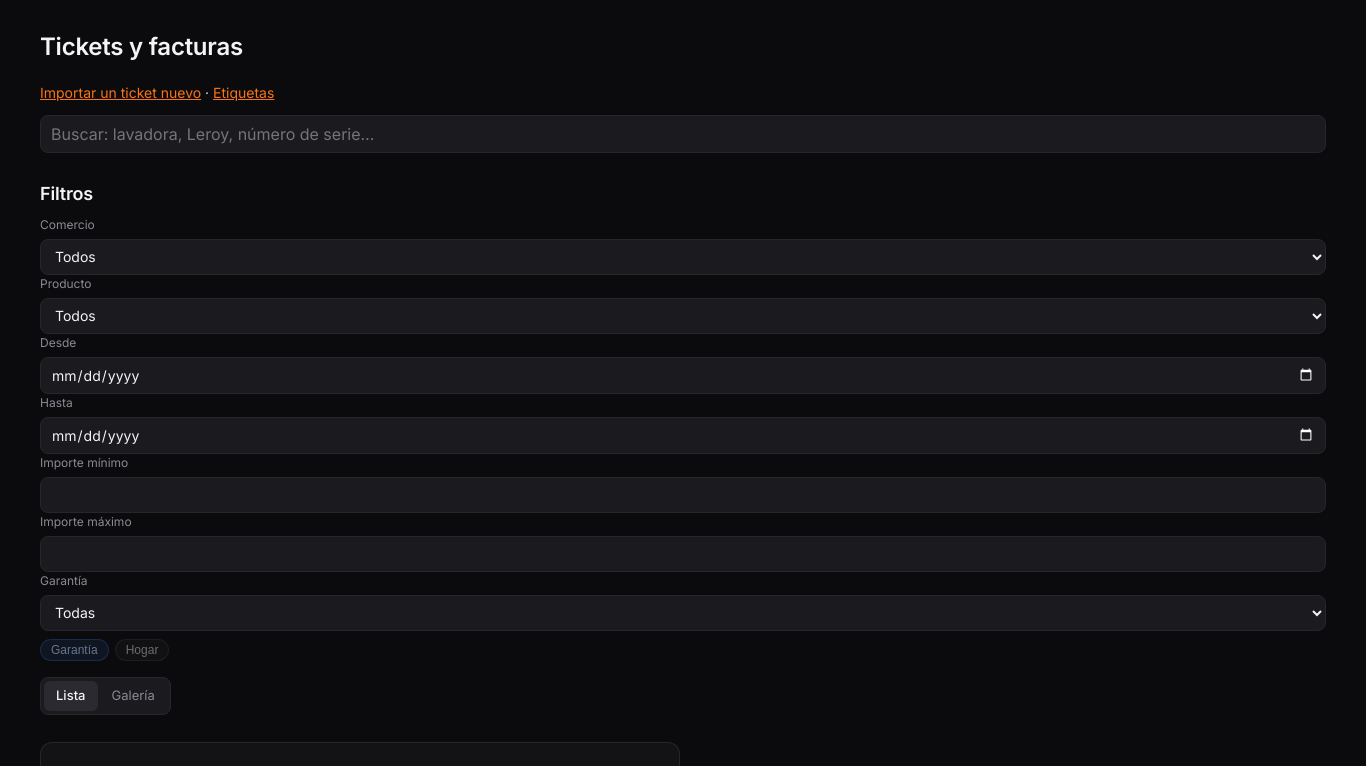
ReceiptsPage › spec 040, H1: filtros › sin resultados con filtros activos, muestra un mensaje distinto del de "sin tickets"
Select "Mercadona" in the dropdown labelled "Comercio": [683, 256] box [40,238,1326,274]
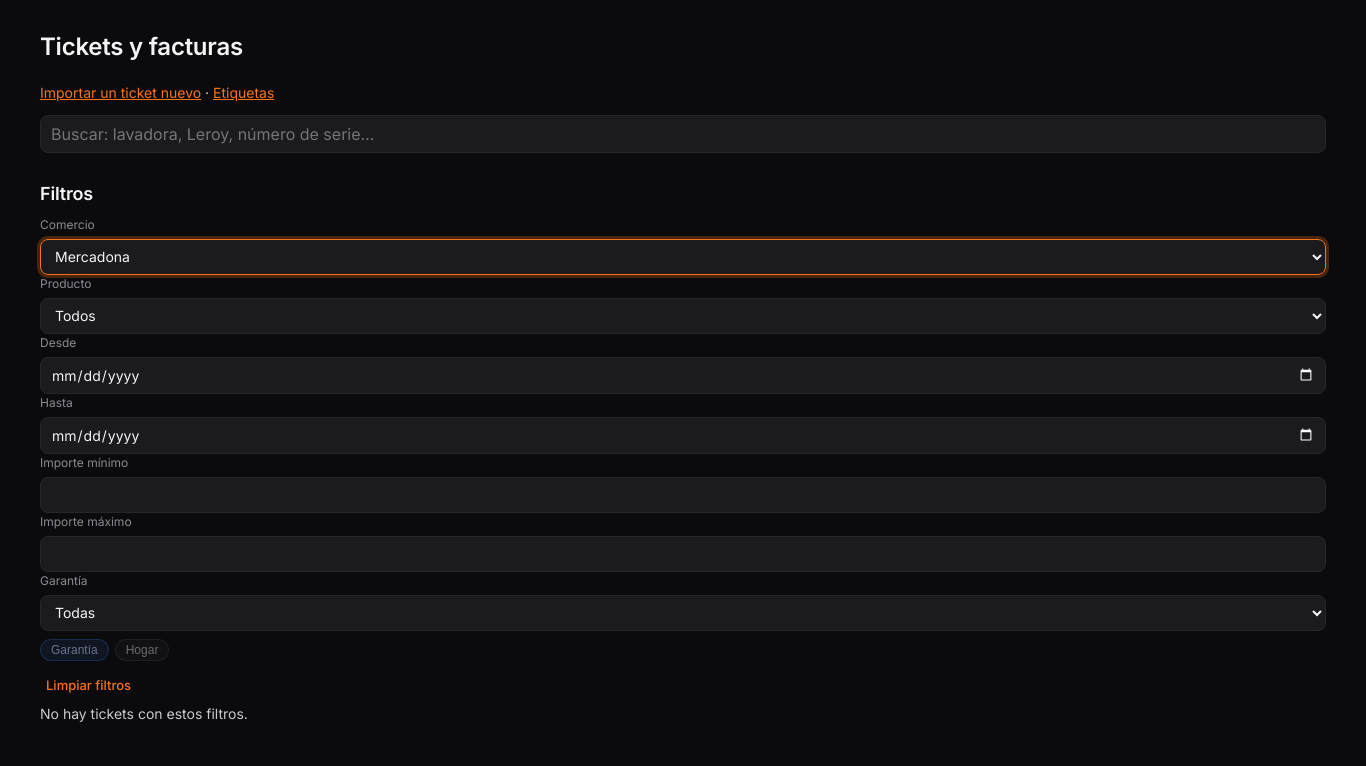
Now the text "No hay tickets con estos filtros." is shown, box [40,705,248,722]
